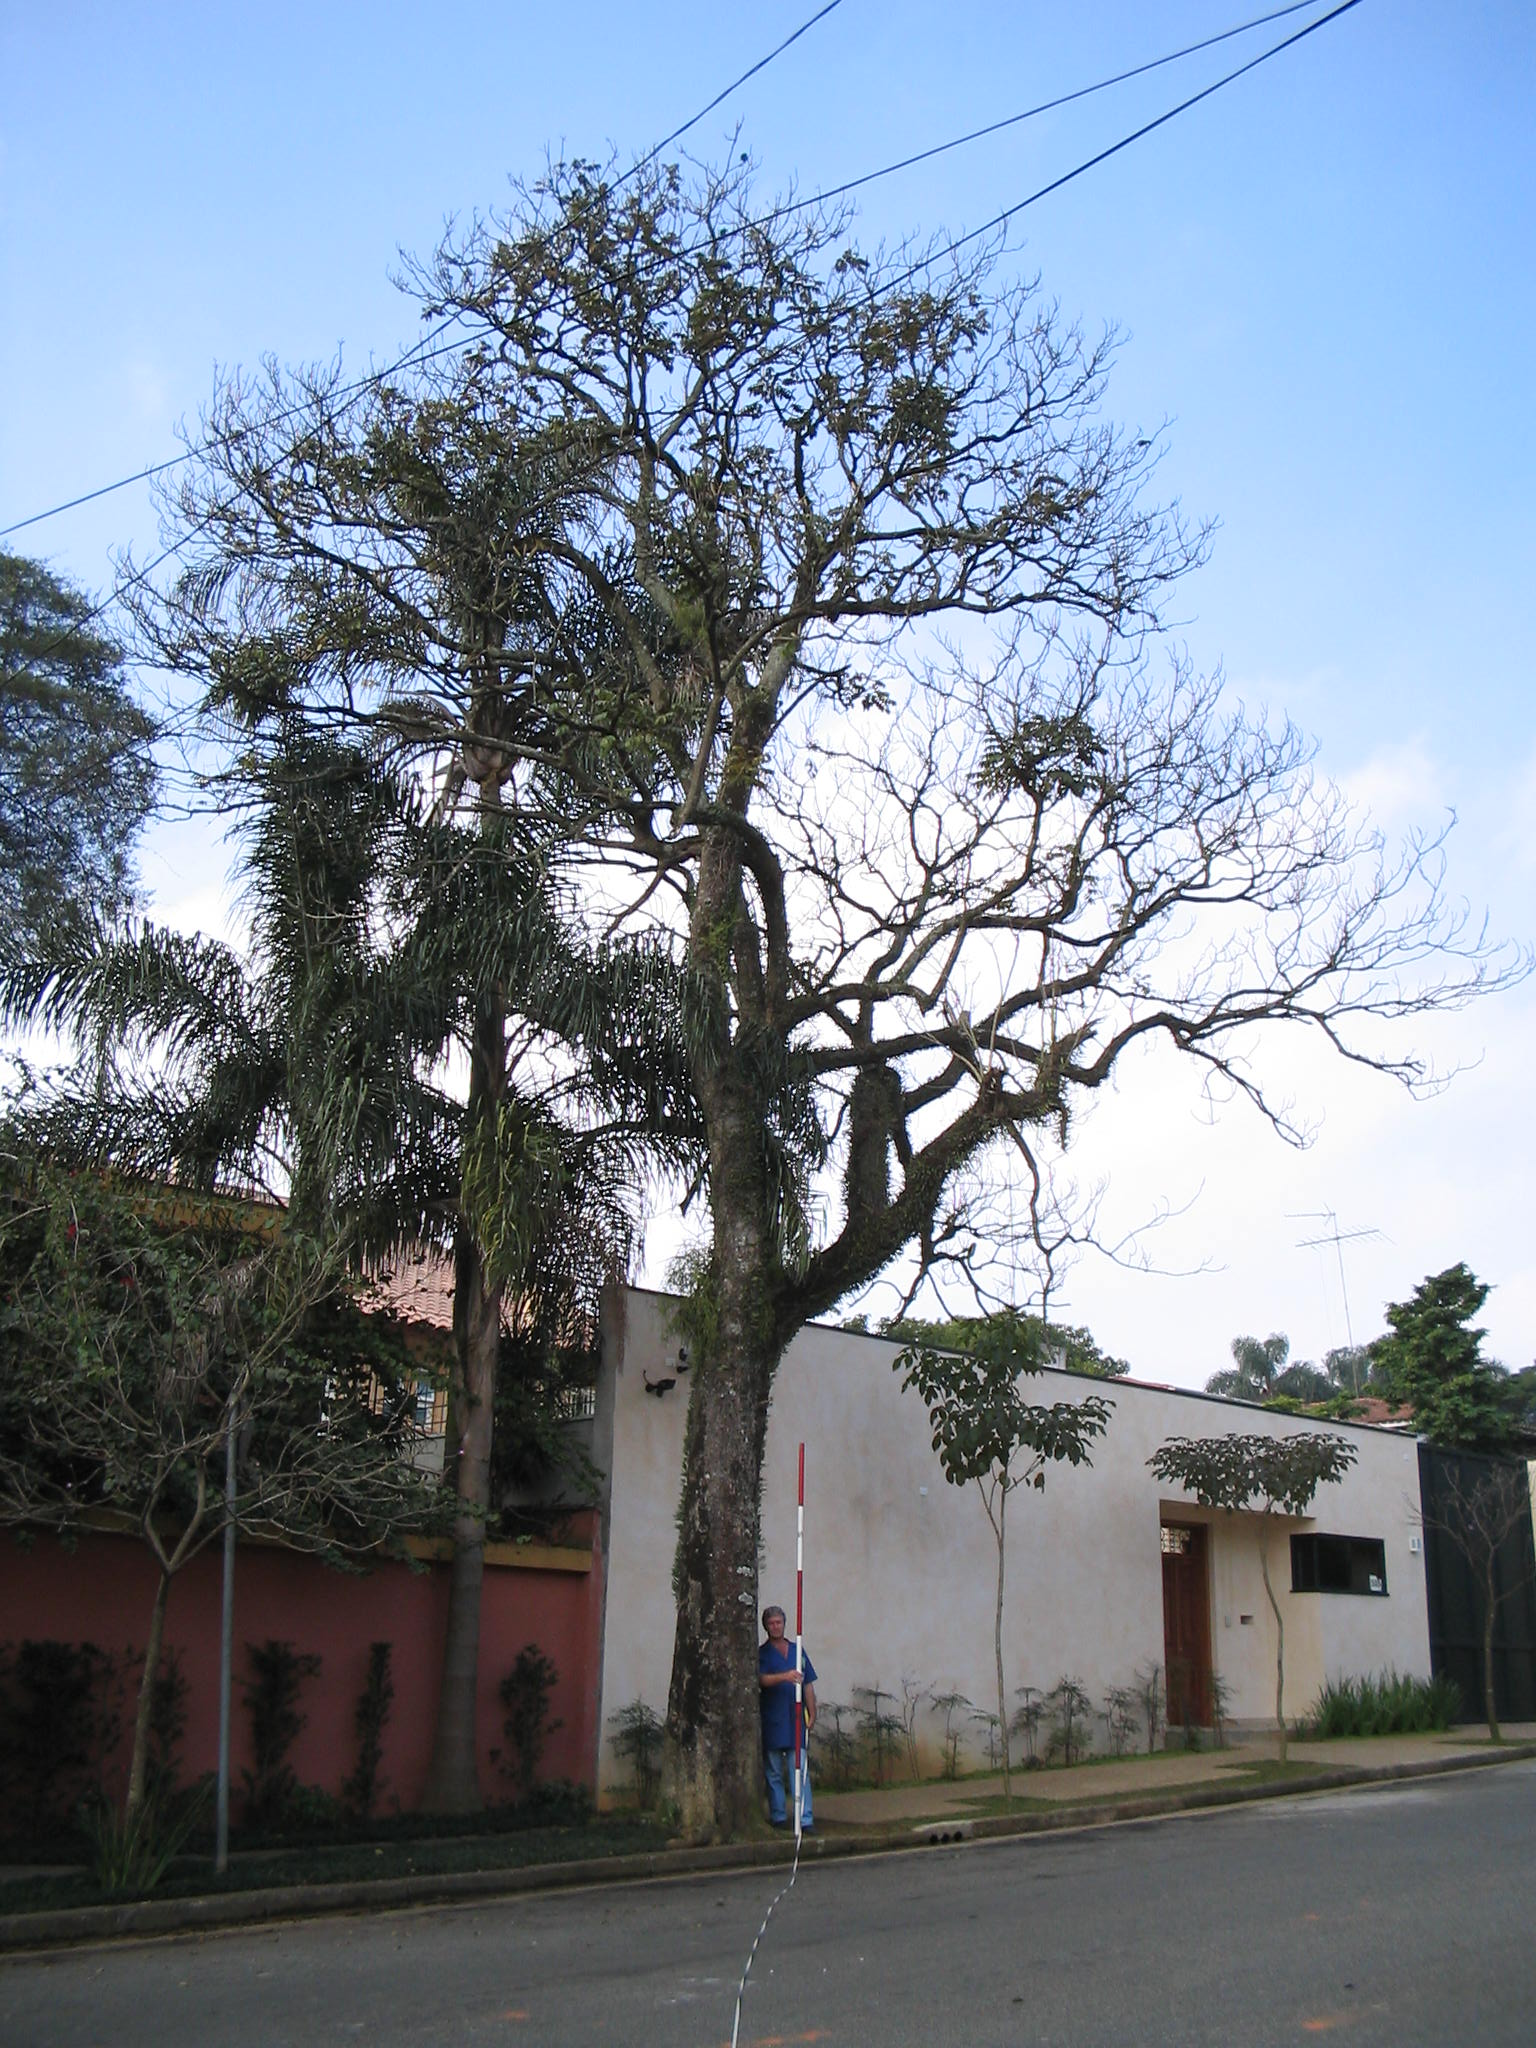stem: (629, 1300, 791, 1850)
stick: (770, 1442, 844, 1840)
tree: (119, 137, 1517, 1858), (11, 1255, 437, 1854), (879, 1345, 1115, 1784), (1146, 1432, 1362, 1753)
